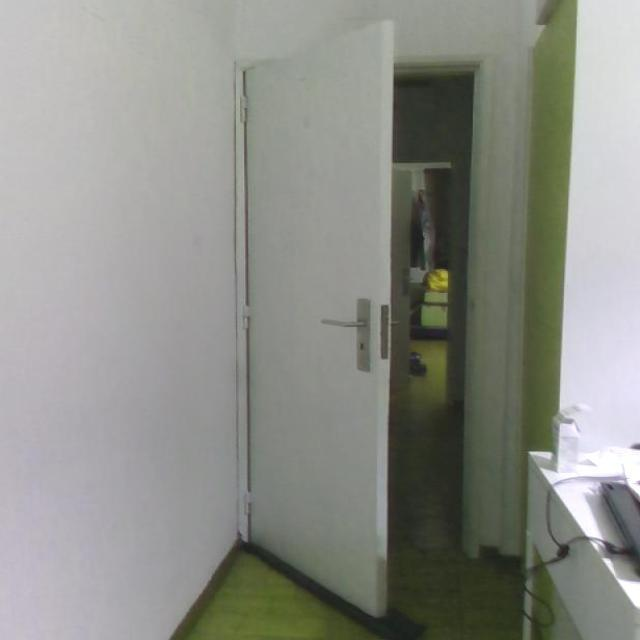door: (239, 19, 393, 619)
